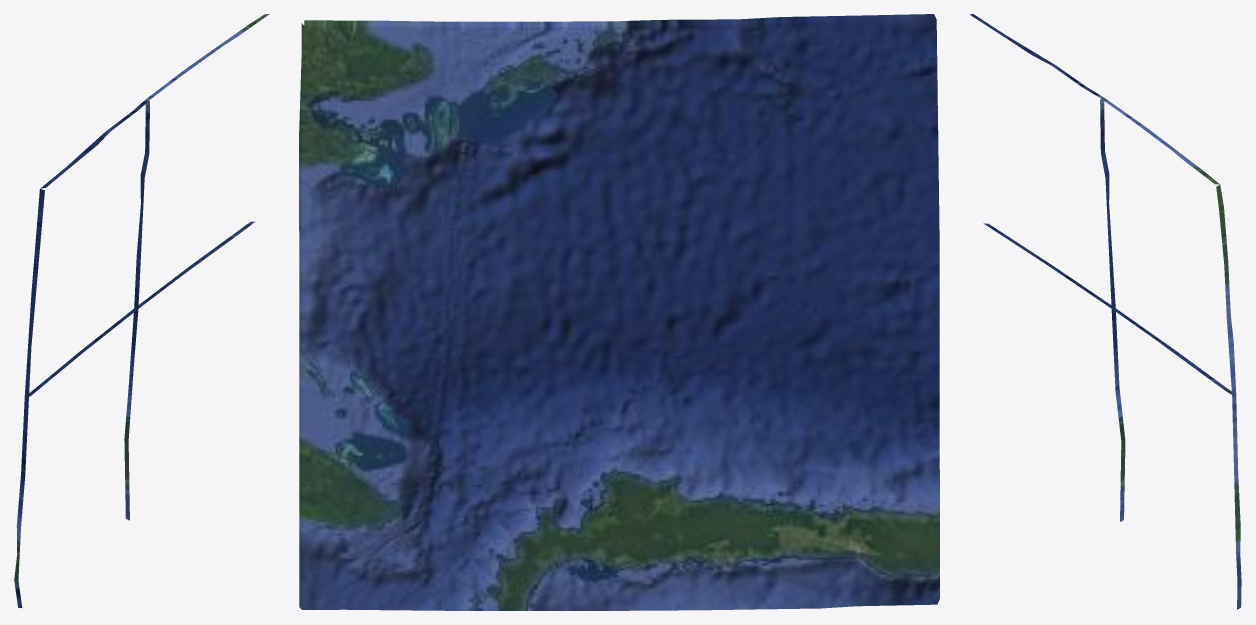
3 renders of one model, left to right at view 1: azimuth 30°, elevation 25°; view 2: azimuth 150°, elevation 25°; view 3: azimuth 270°, elevation 25°, orthographic. The views are drawn at different scales.
Bounding box in the file's own units: 559730 × 628322 × 360638.
Materials: 1 (1 with a texture image).
